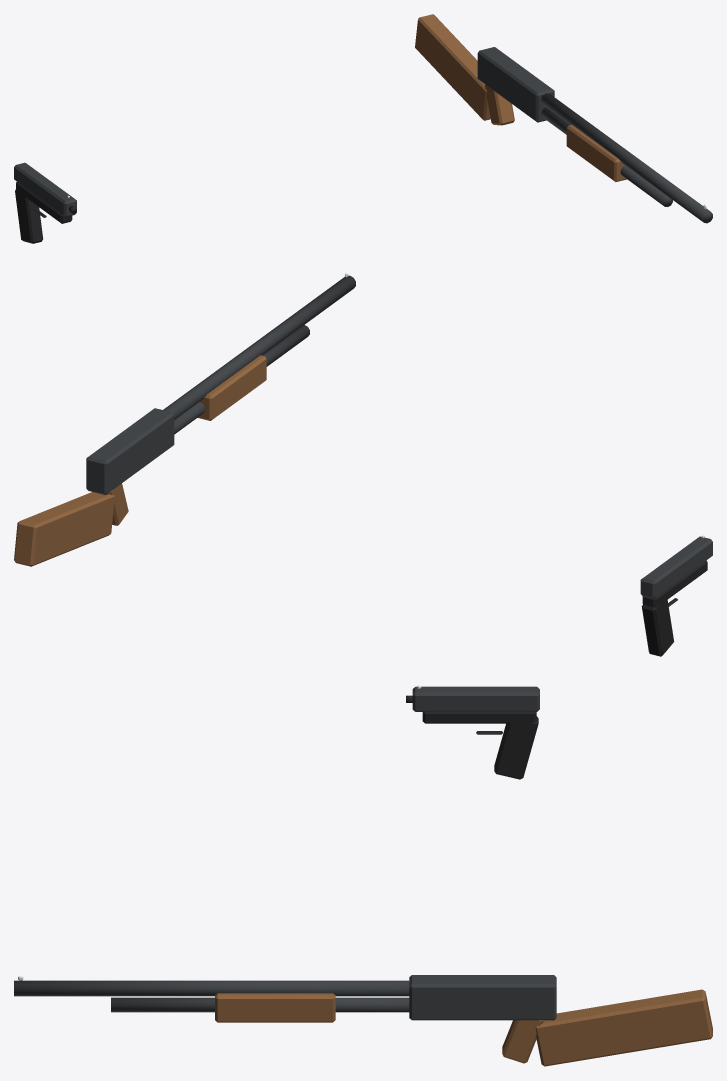
File: weapons.glb
3 renders of one model, top to bottom at view 1: azimuth 30°, elevation 25°; view 2: azimuth 150°, elevation 25°; view 3: azimuth 270°, elevation 25°, orthographic. The views are drawn at different scales.
Visible parts, largest first — view 1: shotgun, pistol; view 2: shotgun, pistol; view 3: shotgun, pistol.
Boxes of the visible parts, bbox=[...] form: shotgun: bbox=[415, 14, 712, 223]; pistol: bbox=[14, 162, 76, 243]; shotgun: bbox=[14, 272, 355, 566]; pistol: bbox=[640, 535, 712, 656]; shotgun: bbox=[14, 975, 712, 1066]; pistol: bbox=[406, 685, 539, 779].
Bounding box in the file's own units: 1.04 × 0.155 × 1.04.
